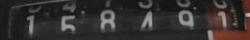digits: (173, 7, 198, 35), (99, 9, 118, 36), (60, 14, 80, 38), (139, 10, 156, 35), (216, 9, 230, 33), (25, 14, 35, 33)
